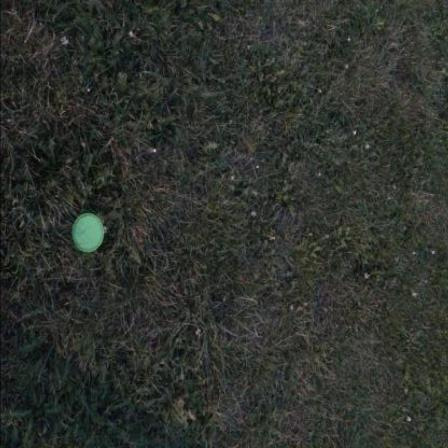Bottle cap: (72, 215, 105, 255)
